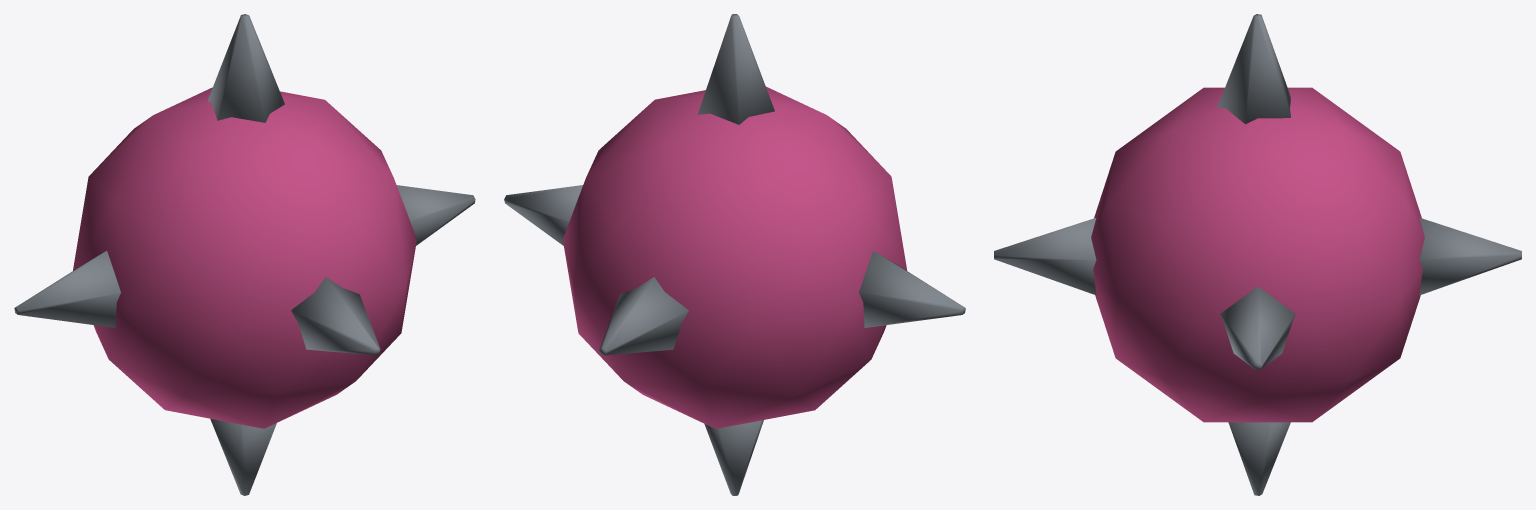
Rendered from flower_pow_ball.glb.
The picture shows the model from 3 angles, left to right: view 1: azimuth 30°, elevation 25°; view 2: azimuth 150°, elevation 25°; view 3: azimuth 270°, elevation 25°; orthographic projection.
Visible parts, largest first — view 1: flower_pow_ball_v0; view 2: flower_pow_ball_v0; view 3: flower_pow_ball_v0.
Boxes of the visible parts, box(x1,y1,x2,y2) form: flower_pow_ball_v0: box(14, 14, 475, 495); flower_pow_ball_v0: box(504, 14, 965, 495); flower_pow_ball_v0: box(994, 14, 1521, 495).
Size of the model in its own units: 0.24 by 0.24 by 0.24.
